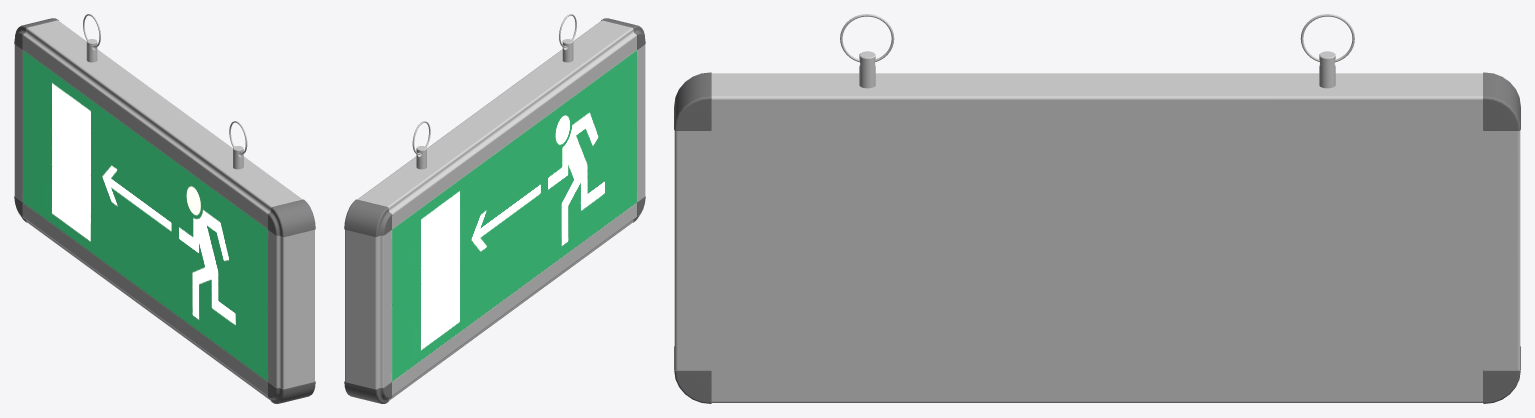
The model's file is emergency_escape_light.glb.
3 views of the same model, side by side, from view 1: azimuth 30°, elevation 25°; view 2: azimuth 150°, elevation 25°; view 3: azimuth 270°, elevation 25° (orthographic). The views are drawn at different scales.
Visible parts, largest first — view 1: geo1; view 2: geo1; view 3: geo1.
Part boxes in pixels (x1,y1,x2,y2): geo1: (14,14,315,403); geo1: (344,14,645,403); geo1: (674,14,1520,403).
Bounding box in the file's own units: 0.0789 × 0.4931 × 1.
1 material, 1 textured.
